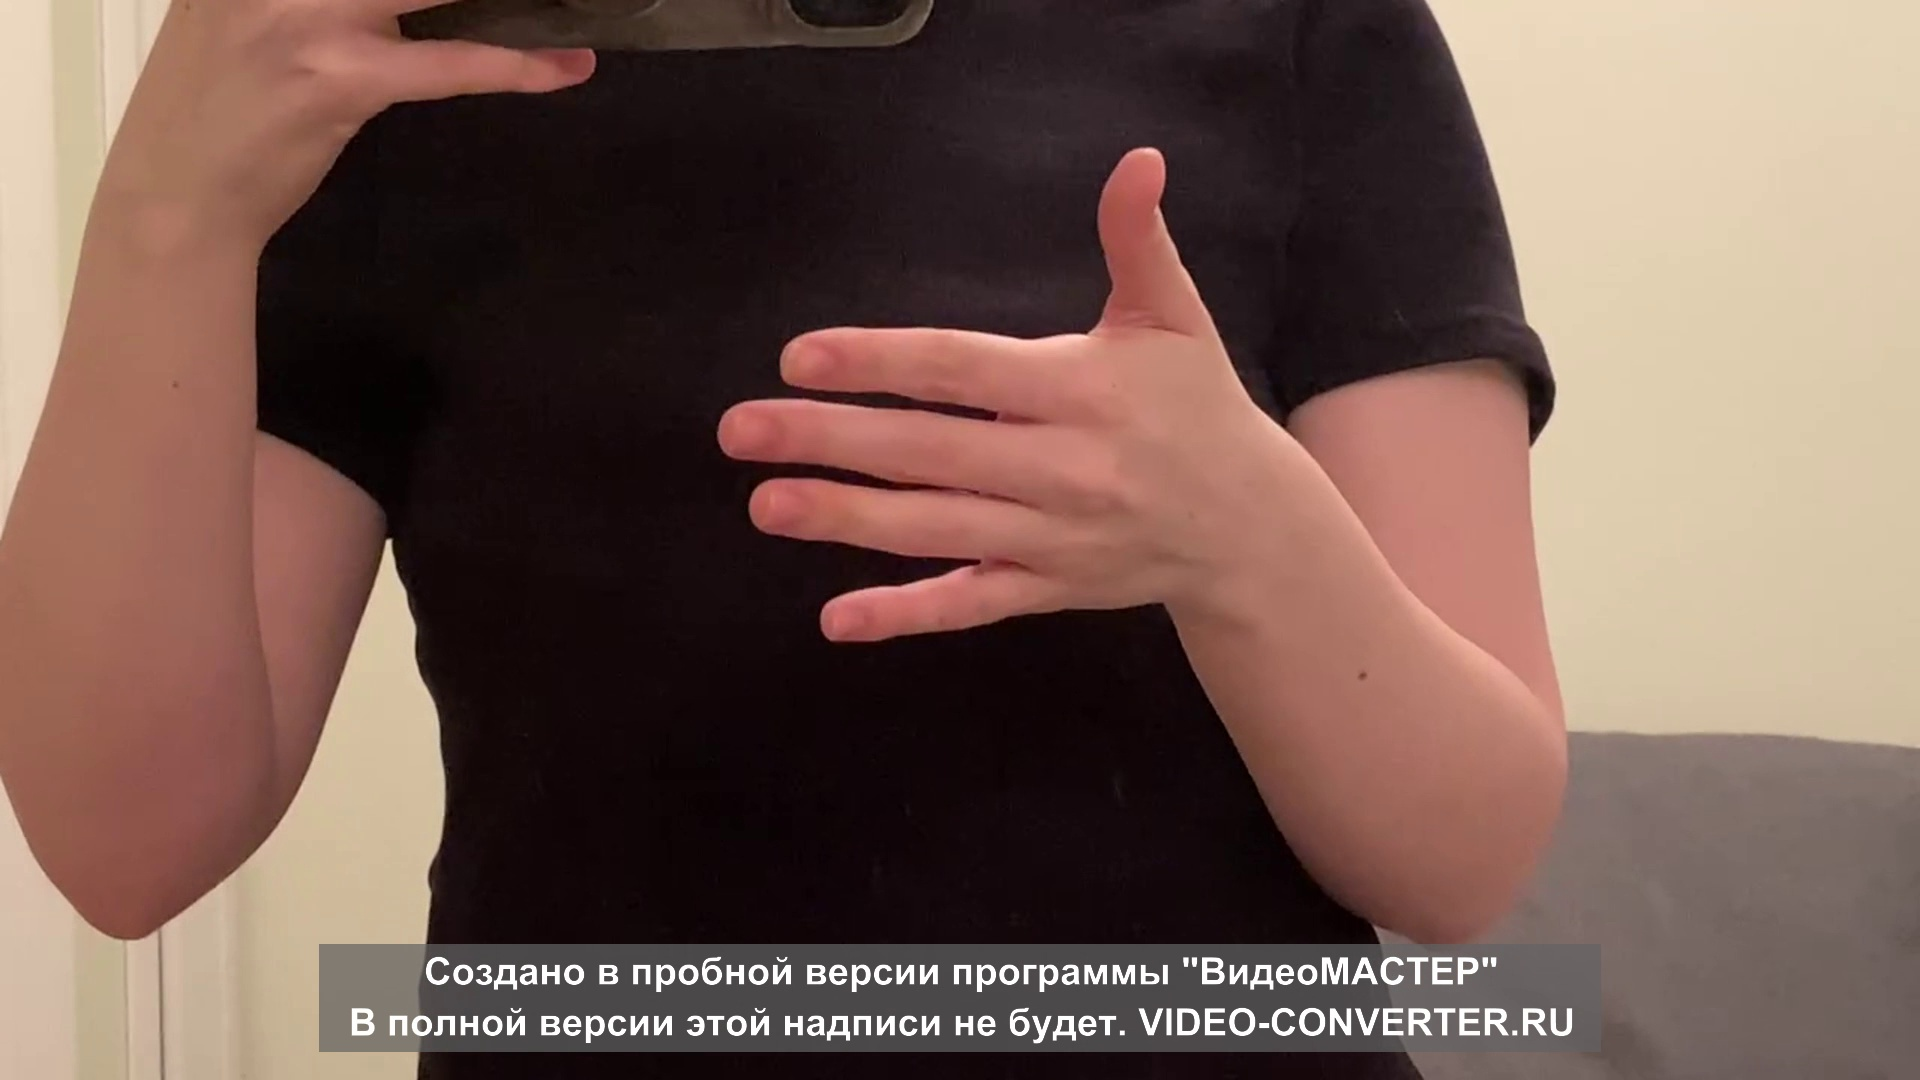Кисть: (720, 149, 1229, 645)
